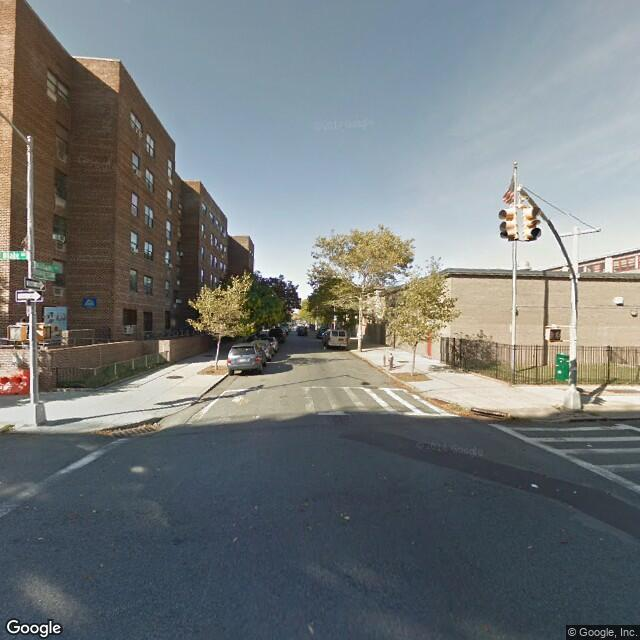litter: (530, 481, 538, 488)
